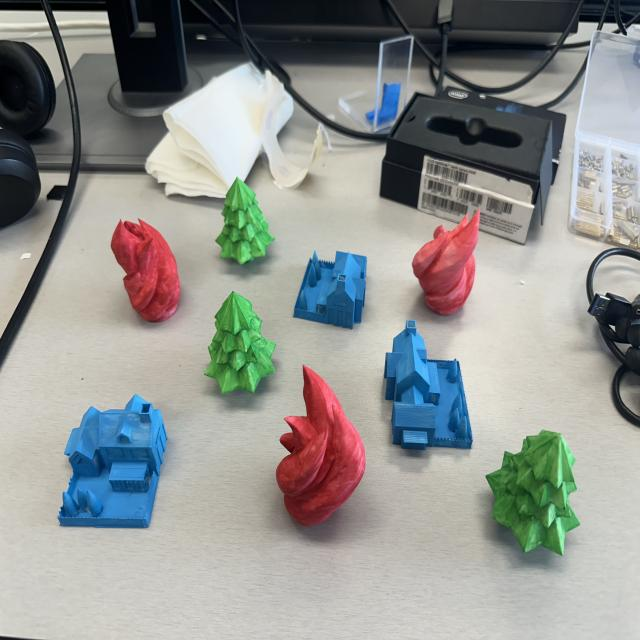fire: (276, 366, 366, 528), (109, 215, 182, 322), (412, 210, 480, 318)
house: (56, 394, 167, 530), (383, 319, 475, 454), (292, 249, 368, 332)
tree: (486, 428, 584, 558), (206, 292, 277, 400), (216, 176, 275, 266)
